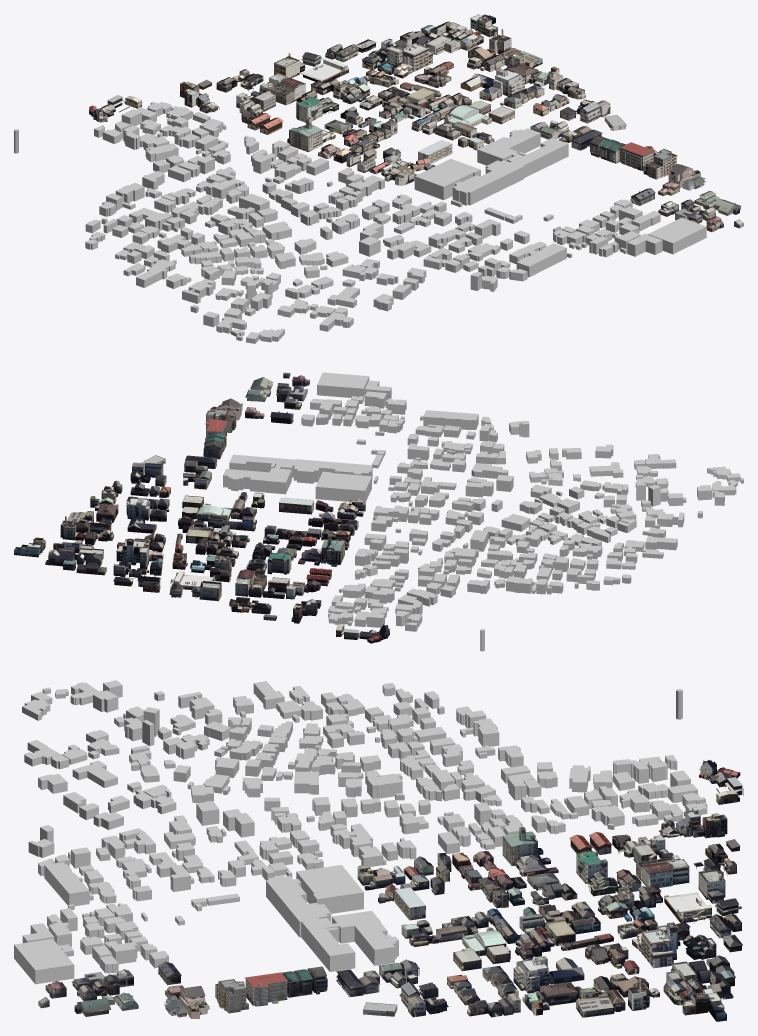
The model's file is 2023-lod3-station-3-0-packed.glb.
The picture shows the model from 3 angles, top to bottom: view 1: azimuth 30°, elevation 25°; view 2: azimuth 150°, elevation 25°; view 3: azimuth 270°, elevation 25°; orthographic projection. The views are drawn at different scales.
Bounding box in the file's own units: 495 × 23.1 × 464.
Materials: 9 (7 with a texture image).
